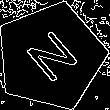N_SE: (18, 24, 83, 88)
